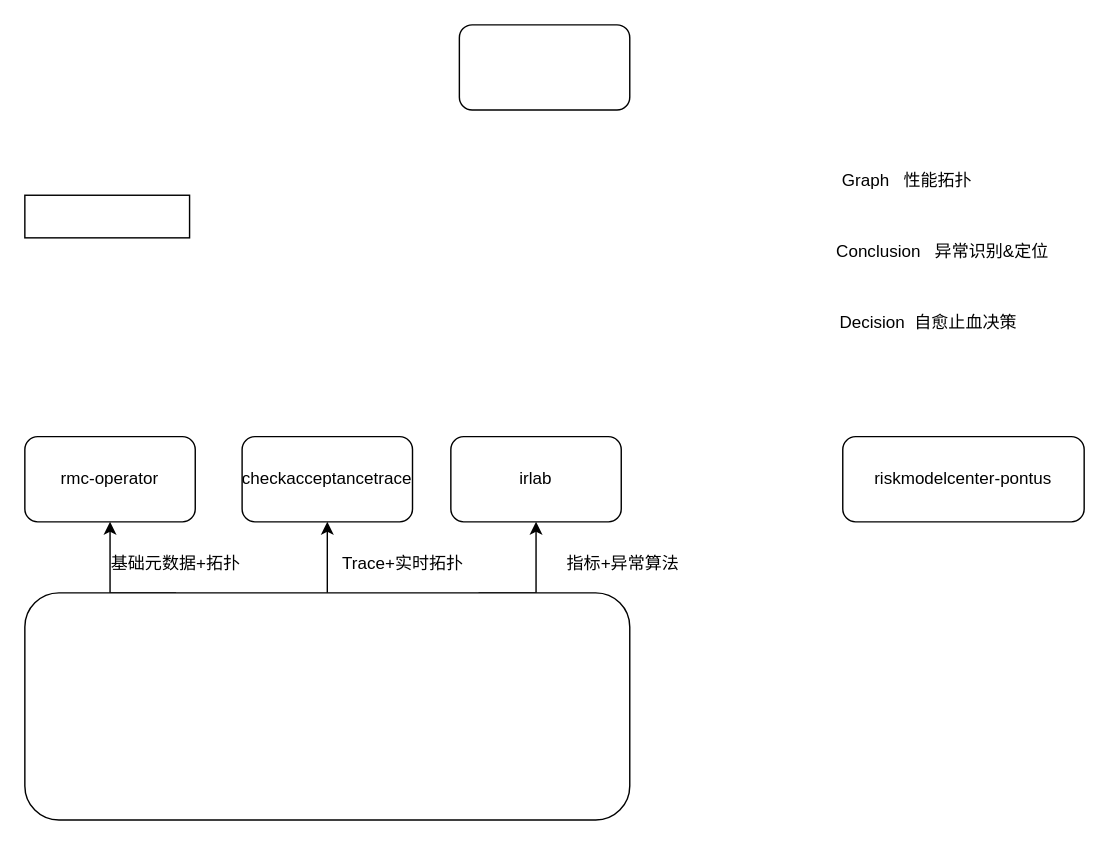
Some shapes in this 1109 by 845 pixel diagram are drawn without their labels. The shapes that lost their labels are listed below. From the top down, each one's centre as x and y in pixels, then its label:
pixel 544 66: riskmodelcentermeta
pixel 326 705: 线上环境
